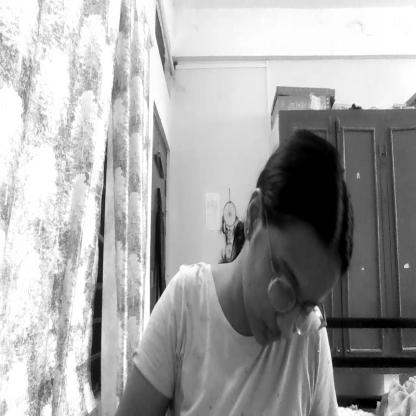Distracted: (248, 142, 342, 357)
